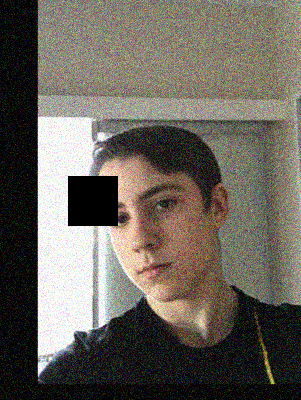without_mask: (99, 178, 197, 304)
